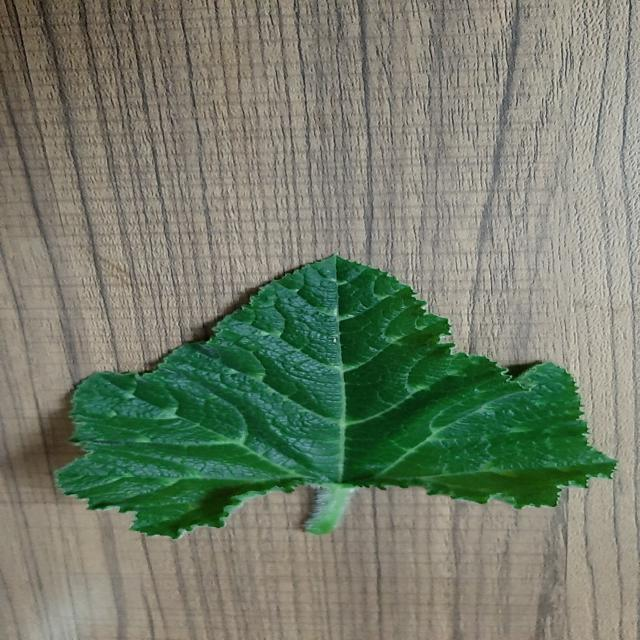pumpkin: (57, 256, 615, 538)
